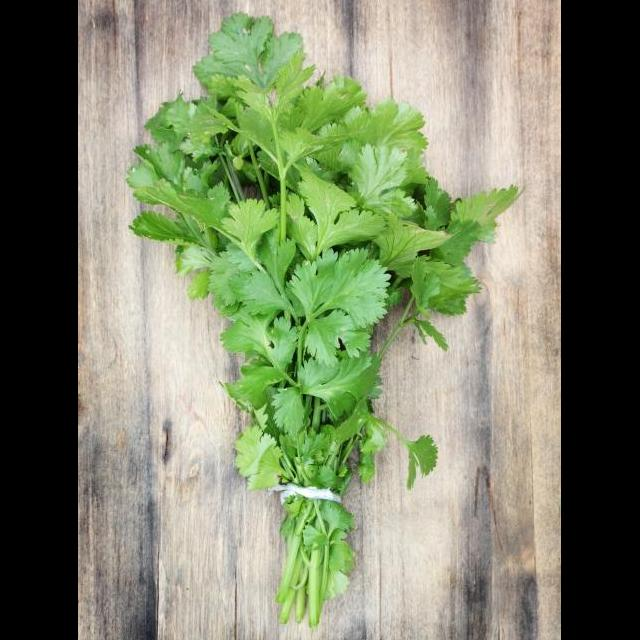cilantro: (125, 9, 526, 628)
